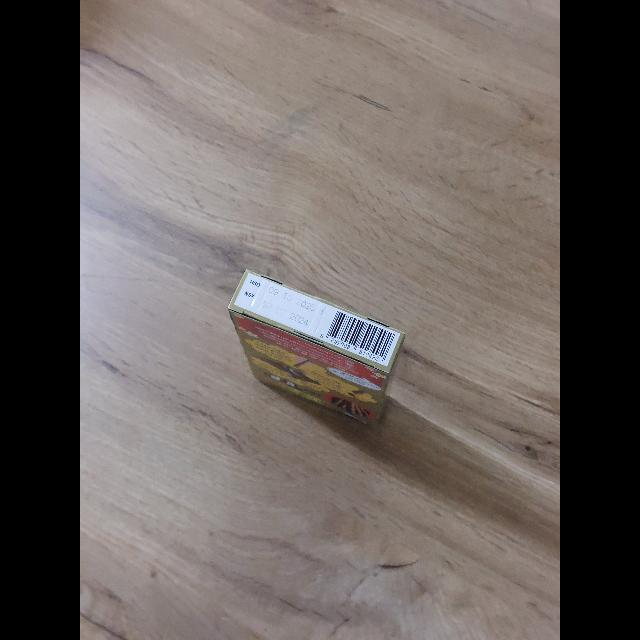banh_toppo_socola: (228, 271, 405, 425)
